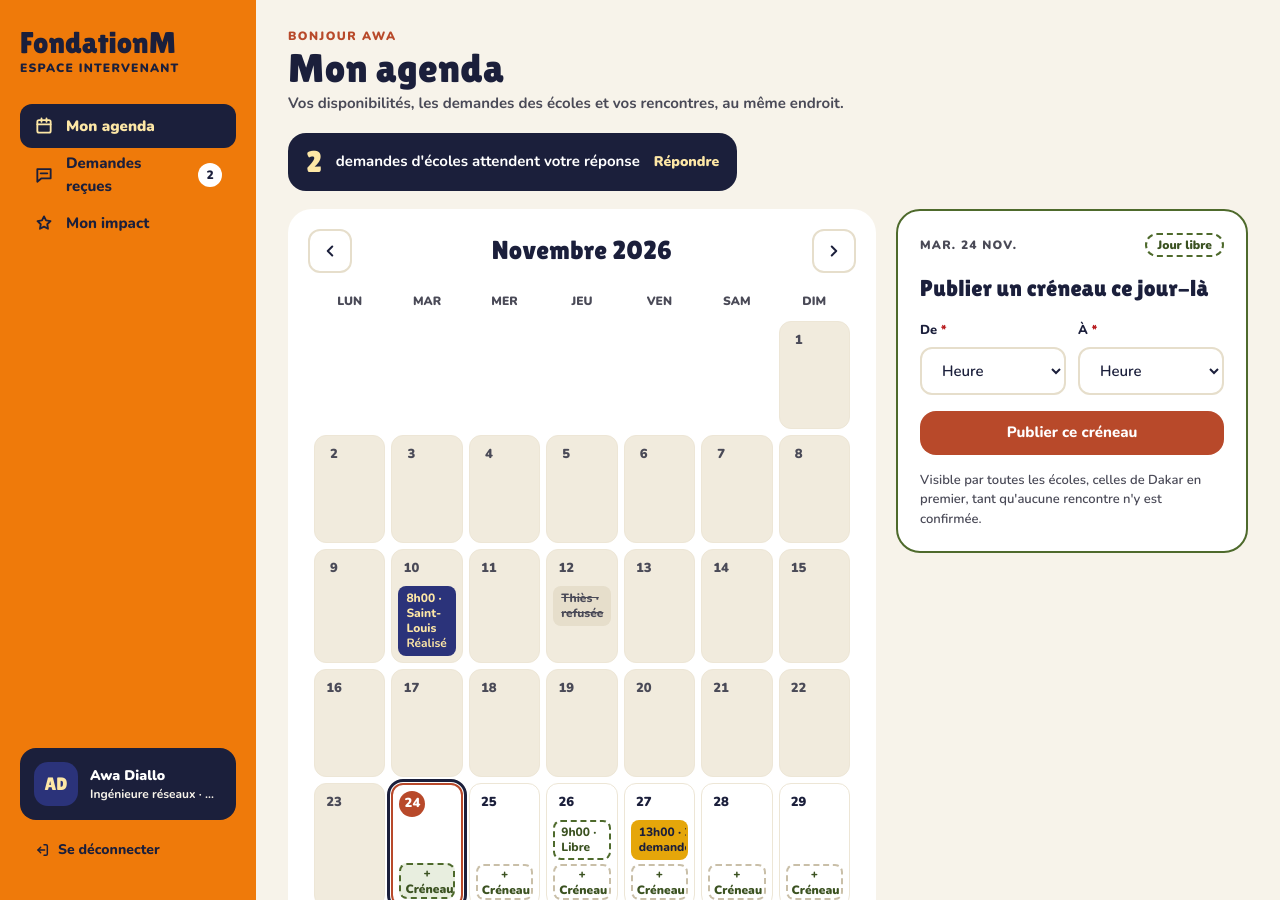
Test case: Mon agenda › navigue entre les mois
What coordinates should you click on to do the following:
click the button named "Mois suivant"
I would click on:
 (834, 250)
Its box is [812,228,856,272].
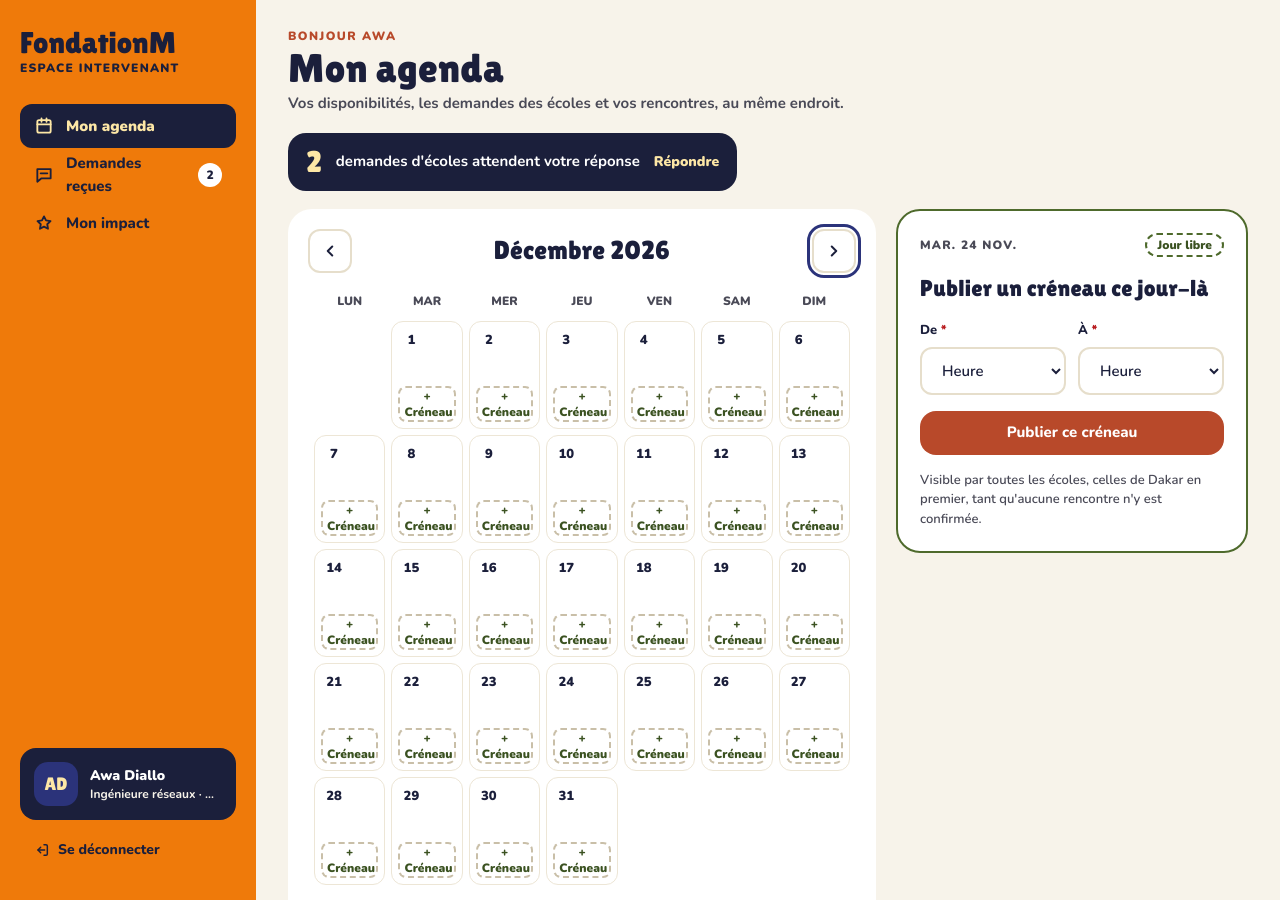
Result: the heading "Décembre 2026" is shown at [494,231,670,270]
What coordinates should you click on to do the following:
click the button named "Mois précédent"
I would click on:
 (330, 250)
Its box is [308,228,352,272].
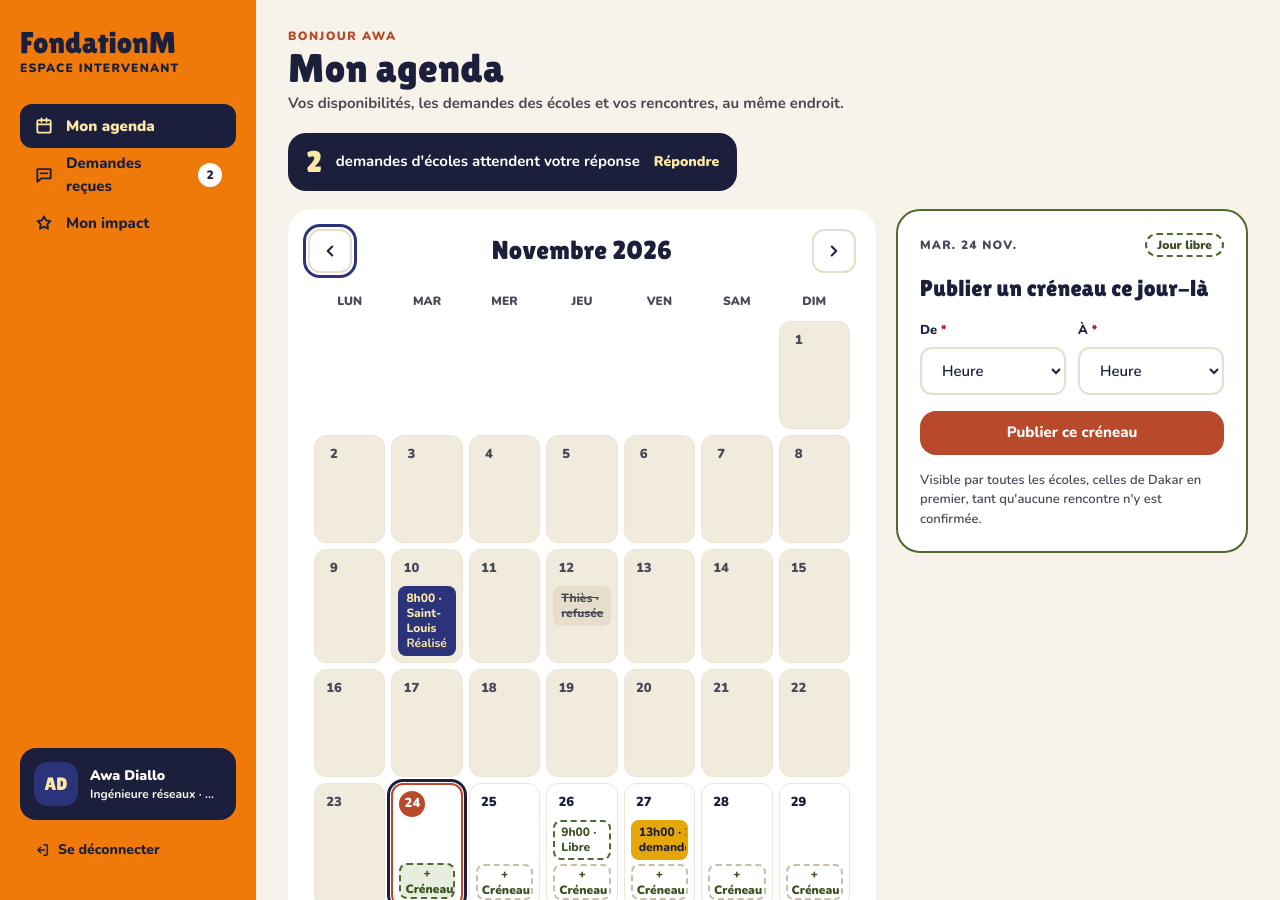
What coordinates should you click on to do the following:
click the button named "Mois précédent"
I would click on:
 (330, 250)
Its box is [308,228,352,272].
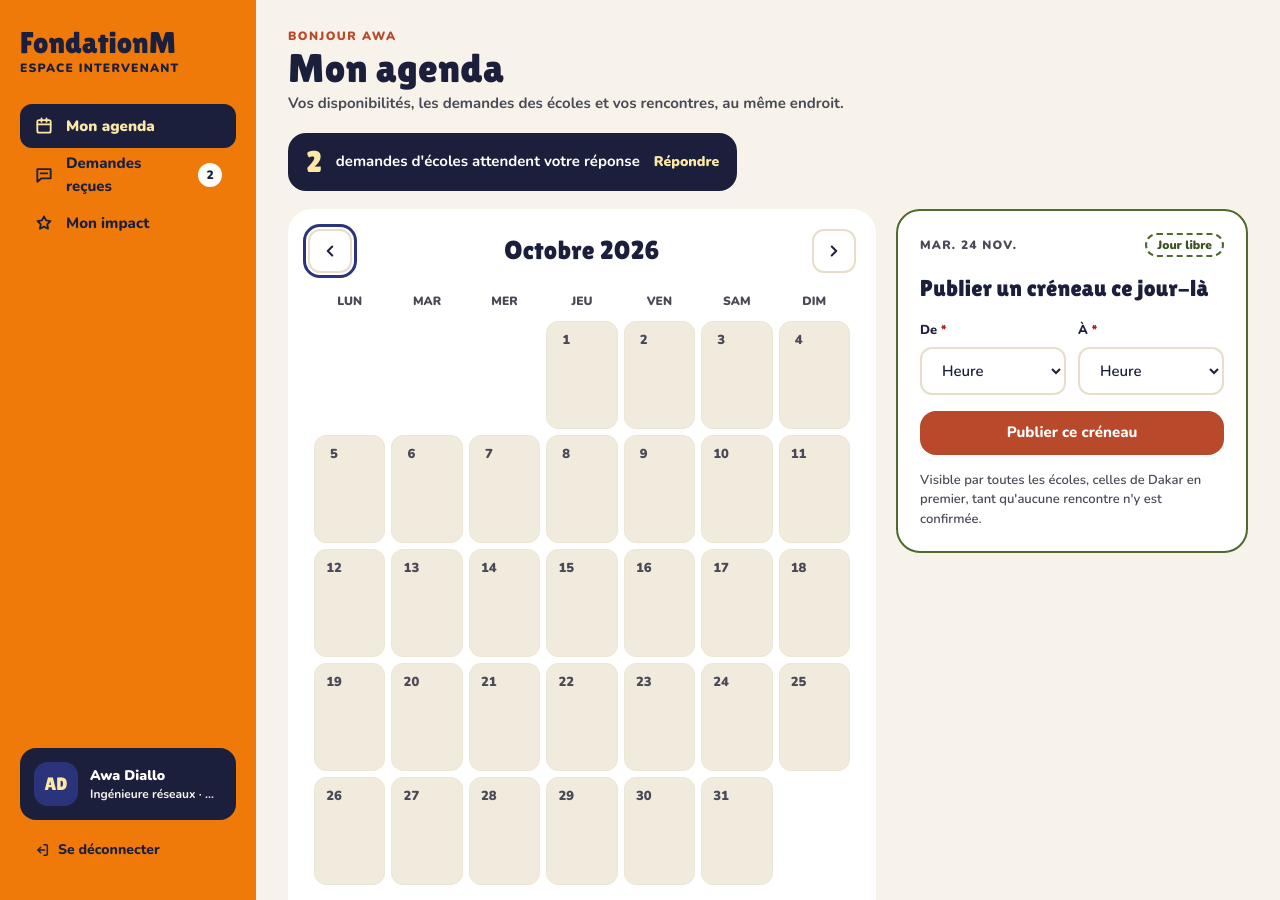
Result: the heading "Octobre 2026" is shown at [504,231,660,270]
